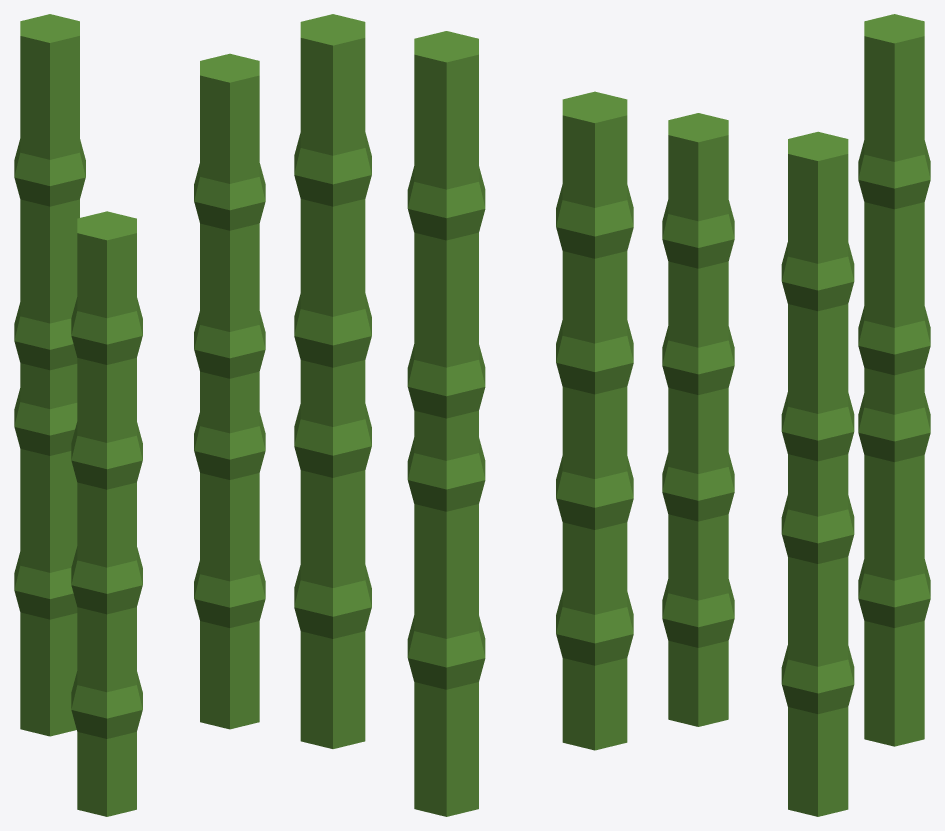
File: reeds_tall.glb
The picture shows the model from 3 angles, left to right: view 1: azimuth 30°, elevation 25°; view 2: azimuth 150°, elevation 25°; view 3: azimuth 270°, elevation 25°; orthographic projection. The views are drawn at different scales.
Parts seen in each view (by area): view 1: reeds_tall; view 2: reeds_tall; view 3: reeds_tall.
Part boxes in pixels (x1,y1,x2,y2): reeds_tall: [14, 14, 265, 816]; reeds_tall: [294, 14, 633, 816]; reeds_tall: [662, 14, 930, 816].
Bounding box in the file's own units: 0.3401 × 0.89 × 0.308.
